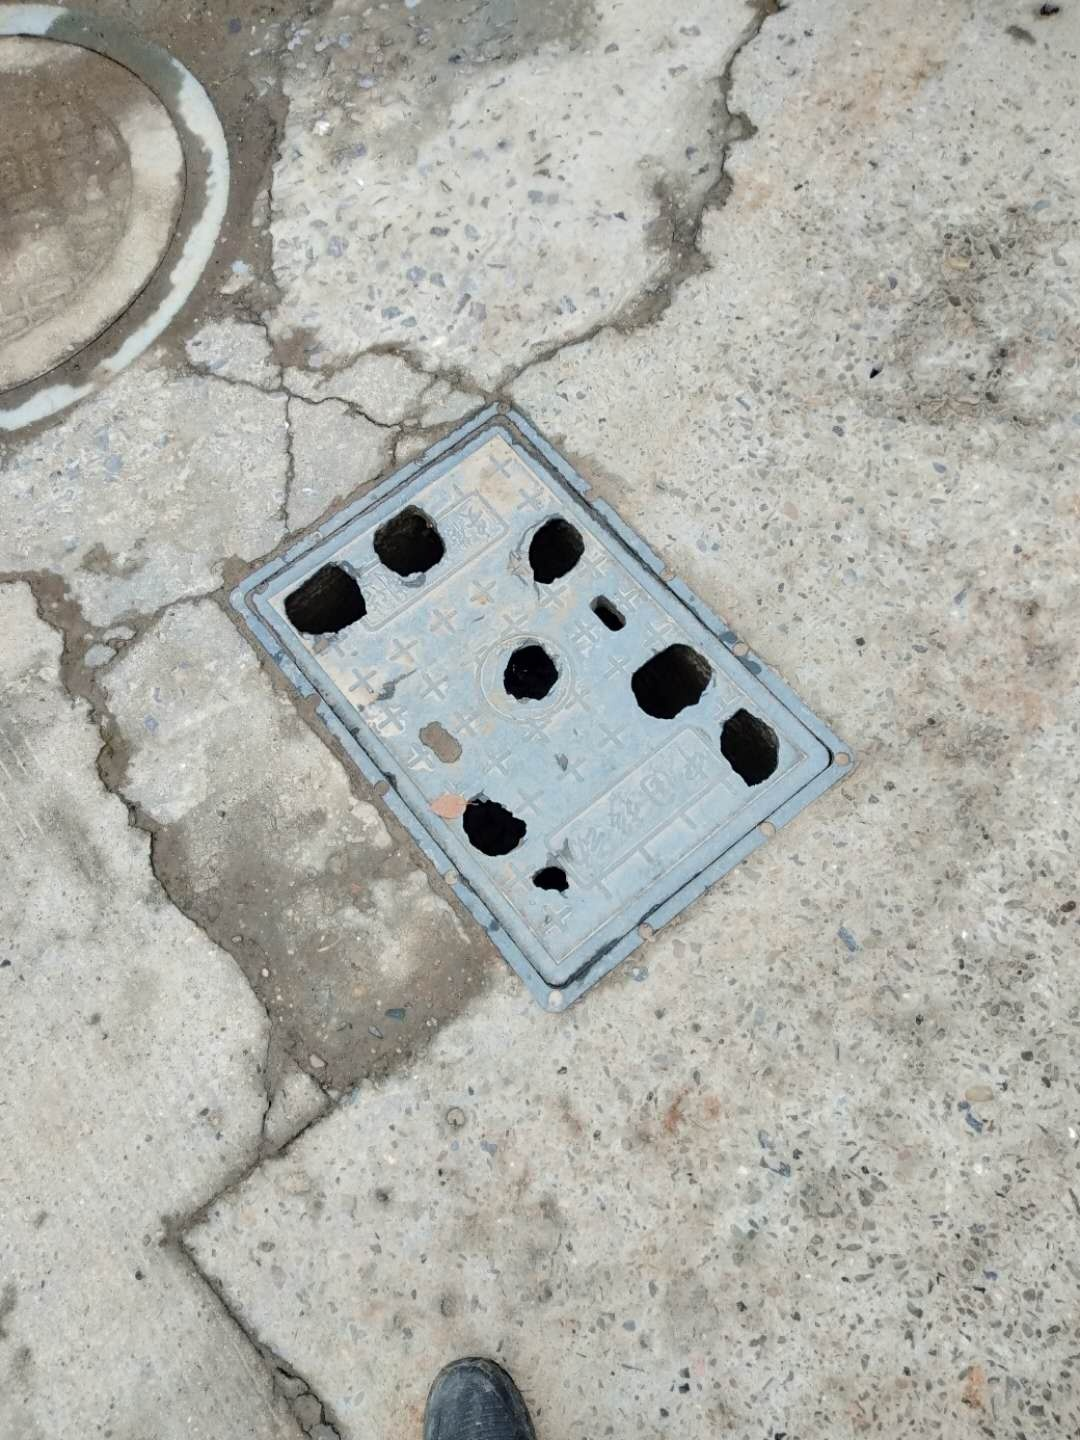broke: (222, 400, 855, 1011)
